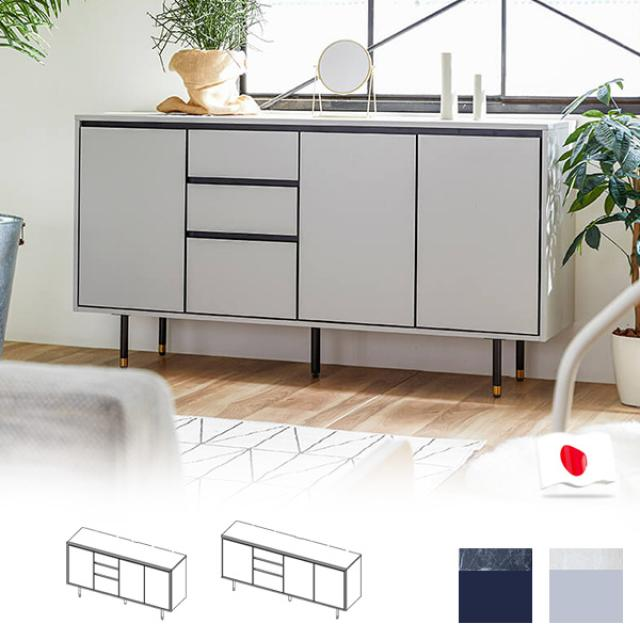white shelf: (64, 99, 578, 401)
